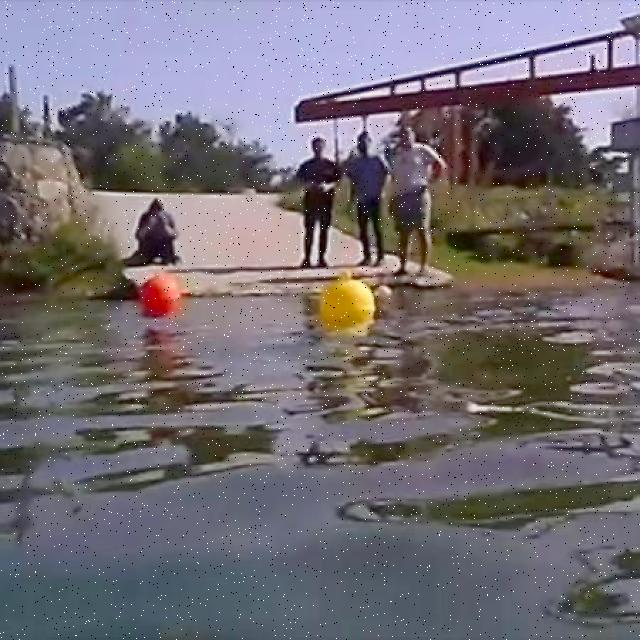buoy: (322, 269, 376, 325), (140, 273, 181, 319)
